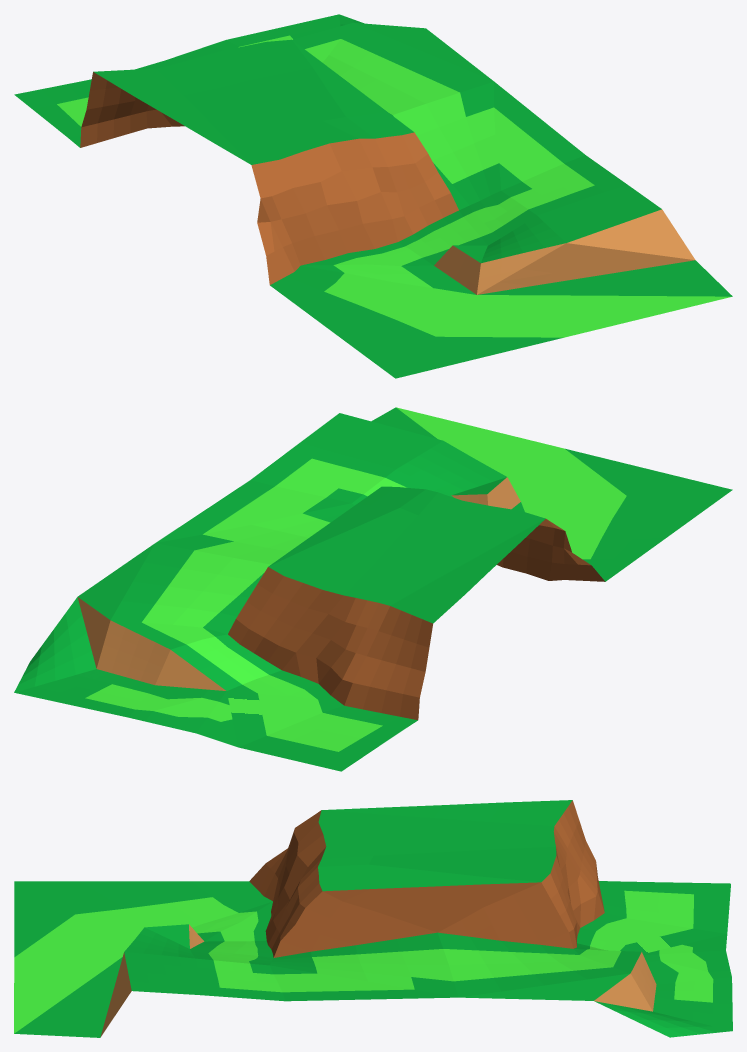
The model's file is level_1_terrain.glb.
3 views of the same model, one above another, from view 1: azimuth 30°, elevation 25°; view 2: azimuth 150°, elevation 25°; view 3: azimuth 270°, elevation 25° (orthographic). The views are drawn at different scales.
Parts seen in each view (by area): view 1: Terrain; view 2: Terrain; view 3: Terrain.
Boxes of the visible parts, left/top/right/bottom form: Terrain: left=14, top=14, right=732, bottom=378; Terrain: left=14, top=407, right=732, bottom=771; Terrain: left=14, top=800, right=732, bottom=1037.
Bounding box in the file's own units: 81.35 × 20.02 × 156.
1 material, 1 textured.
